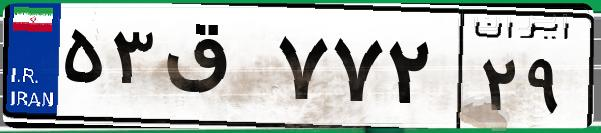2: (385, 28, 445, 110), (475, 38, 525, 113)
3: (110, 28, 158, 98)
5: (57, 26, 110, 100)
7: (270, 28, 330, 110), (330, 28, 385, 110)
9: (525, 38, 570, 115)
ق: (158, 20, 270, 120)
